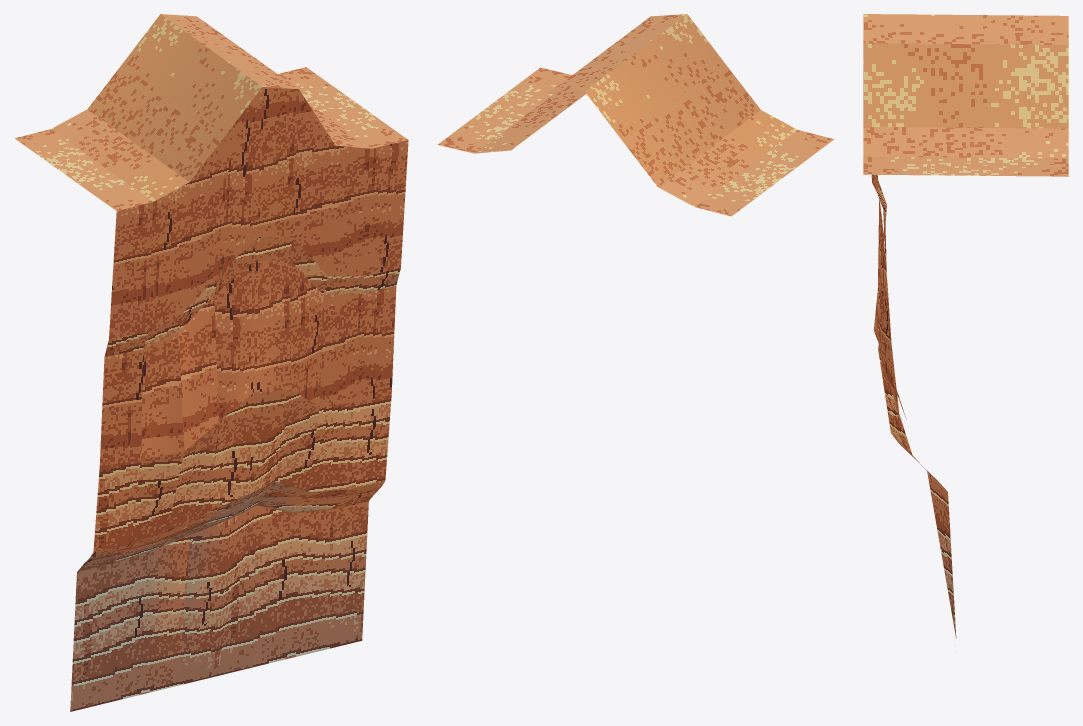
The model's file is wland.canyon_wall__tall.glb.
The picture shows the model from 3 angles, left to right: view 1: azimuth 30°, elevation 25°; view 2: azimuth 150°, elevation 25°; view 3: azimuth 270°, elevation 25°; orthographic projection.
Parts seen in each view (by area): view 1: kit_shell_face, kit_shell_cap; view 2: kit_shell_cap; view 3: kit_shell_cap, kit_shell_face.
Part boxes in pixels (x1,y1,x2,y2): kit_shell_face: (70, 87, 408, 711); kit_shell_cap: (15, 14, 407, 210); kit_shell_cap: (438, 14, 834, 216); kit_shell_cap: (863, 14, 1068, 176); kit_shell_face: (871, 174, 956, 638).
Size of the model in its own units: 8 by 16.32 by 4.85.
3 materials, 3 textured.
